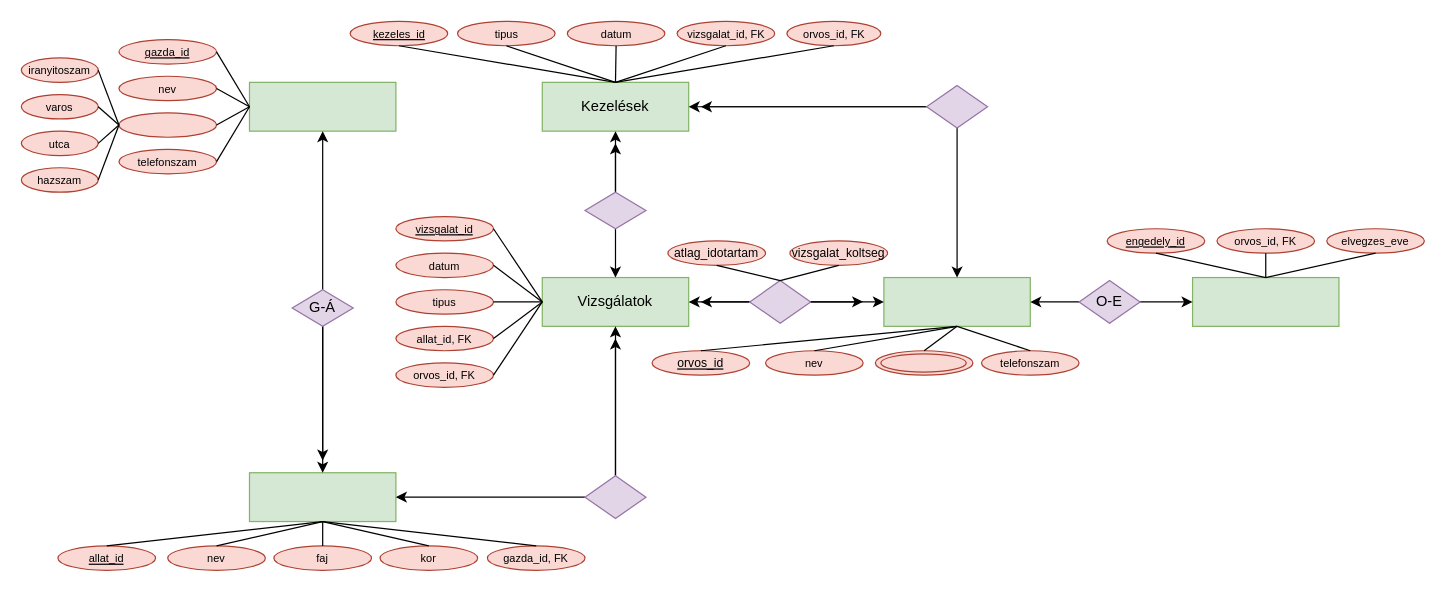
Image size: 1446x592. Some labels were removed from this diagram. The shapes that lost their labels are listed below. From the top down, each one's box as (x1, y1, x2, y2) in pixels, then its label:
(118, 112, 217, 137): cim
(248, 81, 396, 131): Gazdák
(925, 84, 988, 128): O-K
(584, 191, 646, 229): V-K
(748, 279, 811, 323): V-O
(883, 276, 1030, 326): Orvosok
(1191, 276, 1339, 326): Egzotikus orvos
(880, 353, 966, 372): szakterulet
(248, 472, 396, 522): Állatok
(584, 475, 646, 518): Á-V
